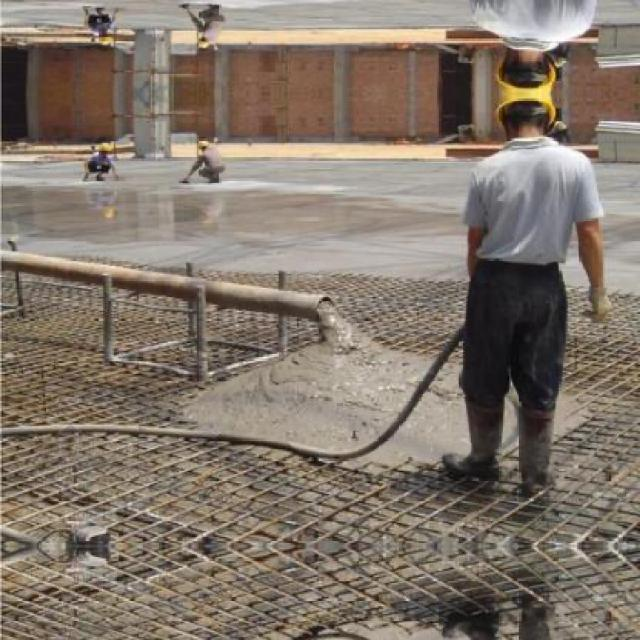con casco: (477, 74, 576, 142)
